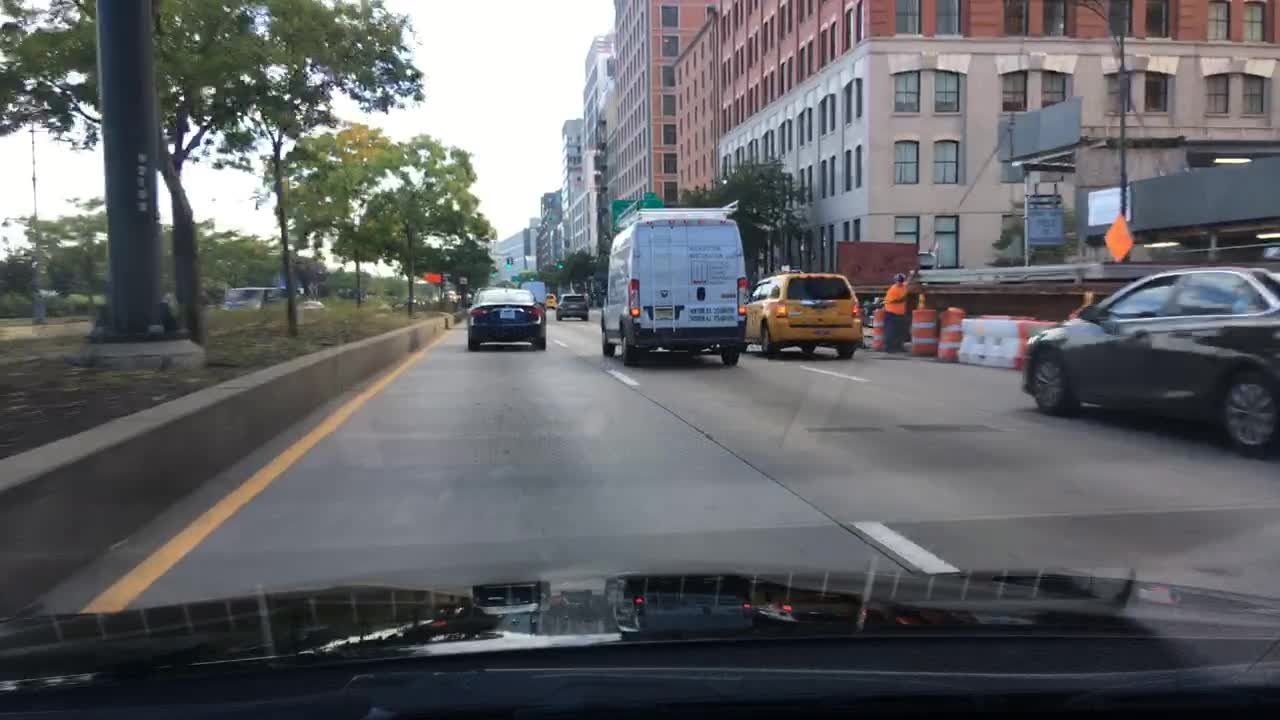car: (1020, 267, 1279, 456), (597, 201, 748, 366), (744, 270, 865, 356), (464, 286, 549, 351), (223, 285, 286, 309), (554, 293, 589, 320), (301, 297, 324, 310), (543, 292, 560, 309), (420, 294, 438, 305), (403, 293, 418, 305), (460, 294, 476, 305), (446, 290, 457, 301)
person: (881, 273, 907, 354)
traffic light: (504, 255, 514, 269), (554, 261, 565, 270)
traffic sign: (608, 191, 673, 234), (1027, 194, 1063, 249), (1102, 211, 1135, 259), (422, 271, 438, 284), (460, 275, 468, 286)
truck: (519, 280, 547, 308)
